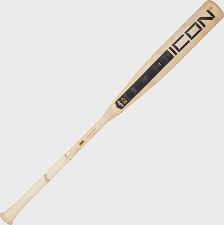baseball bat: (1, 1, 224, 225)
